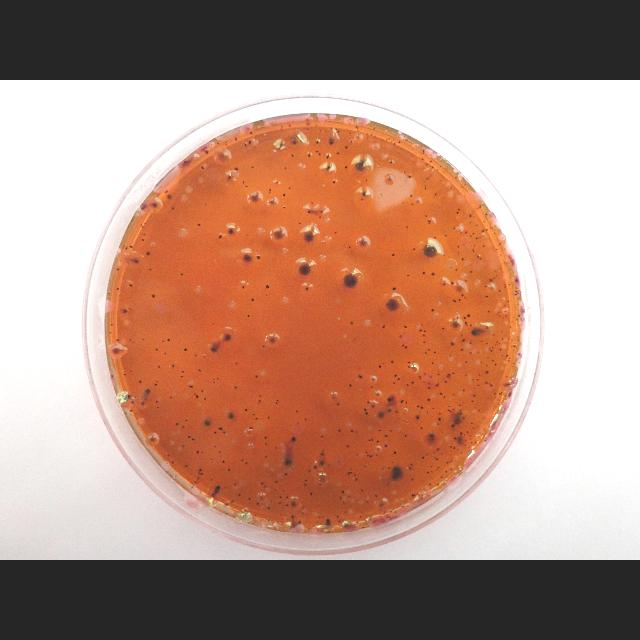colony: (342, 272, 360, 290), (422, 242, 438, 260), (302, 229, 318, 245), (384, 298, 400, 312), (298, 262, 312, 276), (391, 466, 403, 480), (355, 160, 367, 172), (242, 252, 252, 264), (272, 229, 284, 239), (282, 456, 294, 466), (210, 343, 220, 353), (451, 319, 461, 329), (471, 328, 482, 337), (358, 238, 368, 246), (251, 192, 259, 202), (112, 346, 120, 356), (427, 432, 435, 441), (224, 333, 232, 341), (342, 520, 350, 528), (268, 336, 276, 344), (149, 434, 157, 442), (228, 412, 235, 421), (376, 412, 386, 418), (453, 418, 463, 424), (325, 518, 331, 526), (290, 500, 296, 508), (144, 388, 152, 394), (456, 436, 462, 444), (455, 411, 463, 417), (140, 204, 148, 210), (205, 419, 211, 426), (228, 228, 234, 235), (122, 308, 128, 314), (152, 202, 158, 208), (166, 194, 172, 200), (227, 174, 233, 180), (234, 166, 240, 172), (183, 159, 189, 165), (328, 140, 334, 146), (290, 436, 296, 442), (312, 464, 318, 470), (319, 460, 325, 466), (270, 198, 276, 204), (124, 394, 132, 398), (296, 419, 300, 426), (264, 284, 270, 288), (250, 298, 256, 302), (246, 314, 252, 318), (256, 254, 260, 260), (347, 244, 351, 250), (318, 214, 322, 220), (416, 414, 420, 420), (386, 397, 392, 401), (216, 484, 220, 490), (140, 401, 146, 405), (134, 258, 138, 264), (326, 165, 330, 171), (378, 502, 384, 506), (507, 391, 511, 397), (218, 234, 222, 240), (282, 192, 286, 198), (416, 198, 420, 204), (371, 376, 375, 382), (326, 154, 329, 160), (305, 286, 309, 290), (241, 285, 245, 289), (298, 221, 302, 225), (282, 205, 286, 209), (307, 210, 311, 214), (320, 209, 324, 213), (334, 231, 338, 235), (454, 268, 458, 272), (442, 282, 446, 286), (458, 298, 462, 302), (431, 272, 435, 276), (392, 287, 396, 291), (382, 325, 386, 329), (400, 399, 404, 403), (378, 364, 382, 368), (358, 374, 362, 378), (388, 408, 392, 412), (378, 428, 382, 432), (384, 434, 388, 438), (384, 444, 388, 448), (354, 477, 358, 481), (341, 490, 345, 494), (298, 520, 302, 524), (291, 514, 295, 518), (233, 482, 237, 486), (198, 368, 202, 372), (190, 384, 194, 388), (138, 380, 142, 384), (110, 374, 114, 378), (116, 338, 120, 342), (129, 283, 133, 287), (146, 252, 150, 256), (201, 166, 205, 170), (248, 140, 252, 144), (318, 152, 322, 156), (344, 145, 348, 149), (362, 192, 366, 196), (489, 278, 493, 282), (484, 284, 488, 288), (514, 278, 518, 282), (485, 325, 489, 329), (450, 342, 454, 346), (472, 394, 476, 398), (450, 424, 454, 428), (318, 482, 322, 486), (284, 472, 288, 476), (320, 452, 324, 456), (438, 412, 442, 416), (461, 416, 465, 420), (485, 370, 489, 374), (512, 344, 516, 348), (349, 140, 353, 144), (268, 188, 272, 192), (284, 166, 288, 170), (262, 344, 266, 348), (504, 310, 508, 314), (320, 435, 324, 439), (437, 301, 441, 305), (351, 321, 354, 325), (346, 444, 349, 448), (338, 496, 342, 499), (249, 426, 253, 429), (245, 408, 248, 412), (125, 246, 128, 250), (206, 150, 208, 156), (308, 152, 310, 158), (332, 180, 336, 183), (424, 215, 428, 218), (452, 227, 456, 230), (476, 255, 480, 258), (498, 242, 502, 245), (484, 212, 488, 215), (461, 348, 464, 352), (218, 451, 222, 454), (240, 458, 243, 462), (474, 441, 478, 444), (165, 189, 168, 193), (180, 272, 183, 276), (256, 374, 258, 380), (182, 424, 184, 430), (351, 429, 354, 433), (336, 402, 339, 406), (391, 361, 394, 364), (366, 401, 369, 404), (376, 441, 379, 444), (197, 451, 200, 454), (222, 431, 225, 434), (235, 386, 238, 389), (212, 381, 215, 384), (245, 185, 248, 188), (212, 321, 214, 325), (412, 248, 416, 250), (444, 235, 448, 237), (470, 270, 472, 274), (453, 300, 457, 302), (432, 308, 434, 312), (422, 272, 426, 274), (420, 328, 422, 332), (422, 330, 426, 332), (400, 334, 402, 338), (404, 346, 408, 348), (422, 334, 426, 336), (408, 364, 410, 368), (418, 375, 422, 377), (422, 381, 426, 383), (448, 404, 450, 408), (348, 384, 352, 386), (372, 404, 374, 408), (364, 408, 366, 412), (371, 438, 373, 442), (348, 471, 350, 475), (285, 504, 289, 506), (278, 502, 282, 504), (256, 502, 260, 504), (201, 472, 203, 476), (186, 464, 188, 468), (176, 422, 178, 426), (253, 412, 255, 416), (196, 394, 198, 398), (172, 364, 174, 368), (156, 406, 160, 408), (168, 338, 170, 342), (142, 338, 146, 340), (116, 288, 120, 290), (152, 294, 154, 298), (150, 268, 152, 272), (116, 268, 120, 270), (142, 238, 144, 242), (243, 180, 245, 184), (252, 165, 254, 169), (244, 143, 246, 147), (250, 131, 252, 135), (293, 142, 297, 144), (315, 151, 319, 153), (316, 141, 318, 145), (336, 152, 340, 154), (380, 193, 382, 197), (410, 194, 412, 198), (406, 225, 408, 229), (480, 256, 482, 260), (494, 248, 498, 250), (482, 229, 484, 233), (486, 228, 488, 232), (498, 290, 502, 292), (485, 296, 489, 298), (514, 290, 518, 292), (514, 293, 518, 295), (464, 322, 468, 324), (464, 316, 466, 320), (466, 314, 470, 316), (462, 338, 464, 342), (452, 372, 454, 376), (430, 374, 432, 378), (463, 388, 465, 392), (460, 408, 462, 412), (421, 456, 425, 458), (428, 483, 432, 485), (369, 516, 371, 520), (408, 467, 412, 469), (310, 492, 312, 496), (305, 478, 307, 482), (304, 482, 306, 486), (260, 482, 264, 484), (264, 484, 266, 488), (228, 468, 230, 472), (264, 456, 268, 458), (265, 442, 267, 446), (307, 470, 311, 472), (394, 451, 396, 455), (405, 434, 407, 438), (437, 422, 439, 426), (438, 417, 440, 421), (484, 382, 488, 384), (506, 354, 508, 358), (504, 304, 506, 308), (464, 182, 466, 186), (408, 176, 412, 178), (390, 161, 392, 165), (357, 126, 359, 130), (334, 128, 338, 130), (306, 128, 310, 130), (281, 124, 283, 128), (288, 125, 292, 127), (198, 223, 200, 227), (276, 181, 278, 185), (311, 201, 313, 205), (182, 444, 184, 448), (124, 412, 128, 414), (394, 142, 396, 146), (374, 140, 376, 144), (391, 140, 393, 144), (405, 138, 407, 142), (515, 286, 517, 290), (518, 352, 520, 356), (508, 359, 510, 363), (382, 467, 384, 471), (214, 444, 216, 448), (276, 400, 280, 402), (305, 417, 307, 421), (392, 382, 396, 384), (397, 378, 401, 380), (464, 296, 466, 300), (461, 258, 464, 260), (451, 282, 454, 284), (406, 275, 409, 277), (406, 384, 409, 386), (428, 386, 430, 389), (421, 407, 424, 409), (416, 405, 419, 407), (361, 489, 364, 491), (336, 516, 339, 518), (230, 500, 233, 502), (197, 476, 199, 479), (167, 454, 170, 456), (214, 431, 216, 434), (217, 376, 219, 379), (182, 371, 184, 374), (180, 376, 183, 378), (156, 401, 158, 404), (132, 401, 134, 404), (130, 245, 132, 248), (172, 207, 174, 210), (235, 138, 238, 140), (361, 199, 364, 201), (411, 203, 414, 205), (465, 230, 467, 233), (476, 237, 478, 240), (469, 215, 471, 218), (465, 361, 467, 364), (445, 381, 447, 384), (471, 400, 474, 402), (453, 446, 455, 449), (436, 448, 439, 450), (426, 471, 429, 473), (445, 471, 447, 474), (436, 483, 439, 485), (346, 495, 349, 497), (276, 481, 278, 484), (222, 460, 225, 462), (245, 462, 248, 464), (264, 436, 266, 439), (421, 427, 424, 429), (491, 384, 494, 386), (480, 361, 482, 364), (486, 357, 489, 359), (435, 192, 437, 195), (424, 185, 426, 188), (439, 165, 441, 168), (403, 170, 405, 173), (288, 187, 290, 190), (483, 220, 485, 223), (392, 254, 394, 256), (434, 237, 436, 239), (457, 246, 459, 248), (457, 251, 459, 253), (457, 253, 459, 255), (465, 280, 467, 282), (461, 294, 463, 296), (404, 326, 406, 328), (402, 344, 404, 346), (423, 341, 425, 343), (428, 349, 430, 351), (434, 351, 436, 353), (425, 352, 427, 354), (432, 362, 434, 364), (408, 361, 410, 363), (412, 382, 414, 384), (424, 373, 426, 375), (440, 392, 442, 394), (443, 396, 445, 398), (428, 398, 430, 400), (432, 407, 434, 409), (405, 402, 407, 404), (371, 386, 373, 388), (394, 374, 396, 376), (366, 412, 368, 414), (390, 430, 392, 432), (368, 439, 370, 441), (366, 451, 368, 453), (356, 454, 358, 456), (367, 455, 369, 457), (369, 455, 371, 457), (371, 455, 373, 457), (376, 454, 378, 456), (364, 465, 366, 467), (350, 468, 352, 470), (354, 474, 356, 476), (350, 472, 352, 474), (375, 494, 377, 496), (343, 502, 345, 504), (345, 511, 347, 513), (338, 520, 340, 522), (322, 516, 324, 518), (319, 517, 321, 519), (302, 512, 304, 514), (303, 506, 305, 508), (280, 496, 282, 498), (286, 496, 288, 498), (268, 507, 270, 509), (249, 498, 251, 500), (239, 494, 241, 496), (212, 494, 214, 496), (224, 486, 226, 488), (211, 478, 213, 480), (200, 469, 202, 471), (198, 472, 200, 474), (172, 461, 174, 463), (201, 451, 203, 453), (192, 438, 194, 440), (188, 436, 190, 438), (185, 419, 187, 421), (218, 427, 220, 429), (220, 428, 222, 430), (255, 418, 257, 420), (268, 416, 270, 418), (259, 400, 261, 402), (259, 395, 261, 397), (213, 378, 215, 380), (201, 390, 203, 392), (194, 393, 196, 395), (204, 398, 206, 400), (158, 366, 160, 368), (156, 381, 158, 383), (155, 383, 157, 385), (130, 409, 132, 411), (170, 396, 172, 398), (134, 396, 136, 398), (124, 373, 126, 375), (130, 370, 132, 372), (156, 348, 158, 350), (164, 353, 166, 355), (184, 348, 186, 350), (195, 354, 197, 356), (236, 362, 238, 364), (162, 340, 164, 342), (129, 339, 131, 341), (111, 324, 113, 326), (108, 292, 110, 294), (143, 234, 145, 236), (144, 222, 146, 224), (140, 224, 142, 226), (142, 226, 144, 228), (225, 141, 227, 143), (217, 142, 219, 144), (292, 154, 294, 156), (345, 166, 347, 168), (365, 180, 367, 182), (428, 220, 430, 222), (428, 222, 430, 224), (472, 233, 474, 235), (470, 235, 472, 237), (483, 245, 485, 247), (472, 249, 474, 251), (476, 224, 478, 226), (469, 222, 471, 224), (460, 232, 462, 234), (456, 212, 458, 214), (458, 208, 460, 210), (479, 206, 481, 208), (488, 311, 490, 313), (493, 277, 495, 279), (504, 286, 506, 288), (507, 300, 509, 302), (497, 314, 499, 316), (499, 315, 501, 317), (518, 315, 520, 317), (516, 318, 518, 320), (510, 326, 512, 328), (501, 330, 503, 332), (470, 324, 472, 326), (466, 324, 468, 326), (461, 334, 463, 336), (469, 342, 471, 344), (442, 328, 444, 330), (470, 352, 472, 354), (449, 354, 451, 356), (448, 373, 450, 375), (436, 384, 438, 386), (437, 383, 439, 385), (453, 393, 455, 395), (459, 404, 461, 406), (448, 409, 450, 411), (460, 432, 462, 434), (454, 437, 456, 439), (450, 446, 452, 448), (457, 448, 459, 450), (450, 460, 452, 462), (446, 462, 448, 464), (426, 453, 428, 455), (436, 458, 438, 460), (433, 451, 435, 453), (441, 453, 443, 455), (437, 466, 439, 468), (436, 468, 438, 470), (430, 465, 432, 467), (431, 470, 433, 472), (441, 476, 443, 478), (450, 468, 452, 470), (411, 478, 413, 480), (411, 494, 413, 496), (413, 494, 415, 496), (402, 505, 404, 507), (366, 501, 368, 503), (360, 516, 362, 518), (356, 521, 358, 523), (410, 464, 412, 466), (388, 467, 390, 469), (392, 461, 394, 463), (390, 510, 392, 512), (274, 489, 276, 491), (282, 490, 284, 492), (210, 458, 212, 460), (275, 446, 277, 448), (322, 449, 324, 451), (441, 431, 443, 433), (419, 411, 421, 413), (426, 412, 428, 414), (464, 434, 466, 436), (469, 435, 471, 437), (469, 438, 471, 440), (484, 439, 486, 441), (471, 442, 473, 444), (484, 429, 486, 431), (473, 427, 475, 429), (471, 422, 473, 424), (452, 409, 454, 411), (475, 407, 477, 409), (500, 392, 502, 394), (494, 393, 496, 395), (477, 384, 479, 386), (476, 379, 478, 381), (478, 374, 480, 376), (465, 374, 467, 376), (472, 379, 474, 381), (494, 396, 496, 398), (495, 364, 497, 366), (492, 360, 494, 362), (485, 365, 487, 367), (490, 350, 492, 352), (501, 354, 503, 356), (509, 357, 511, 359), (513, 362, 515, 364), (500, 348, 502, 350), (486, 343, 488, 345), (492, 347, 494, 349), (496, 341, 498, 343), (495, 344, 497, 346), (501, 338, 503, 340), (508, 338, 510, 340), (511, 339, 513, 341), (481, 340, 483, 342), (492, 334, 494, 336), (517, 304, 519, 306), (424, 188, 426, 190), (432, 166, 434, 168), (426, 178, 428, 180), (436, 169, 438, 171), (455, 176, 457, 178), (430, 160, 432, 162), (426, 164, 428, 166), (422, 158, 424, 160), (349, 132, 351, 134), (338, 131, 340, 133), (320, 130, 322, 132), (269, 192, 271, 194), (266, 294, 268, 296), (398, 141, 400, 143), (373, 128, 375, 130), (388, 138, 390, 140), (386, 138, 388, 140), (374, 136, 376, 138), (370, 134, 372, 136), (366, 133, 368, 135), (378, 163, 380, 165), (402, 202, 404, 204), (473, 244, 475, 246), (508, 284, 510, 286), (512, 365, 514, 367), (387, 484, 389, 486), (276, 402, 278, 404), (296, 410, 298, 412), (338, 430, 340, 432), (396, 411, 398, 413), (437, 450, 438, 452), (467, 431, 468, 433), (419, 378, 421, 378), (474, 251, 474, 253), (498, 312, 500, 312), (437, 374, 439, 374), (499, 394, 501, 394), (356, 125, 356, 128)
